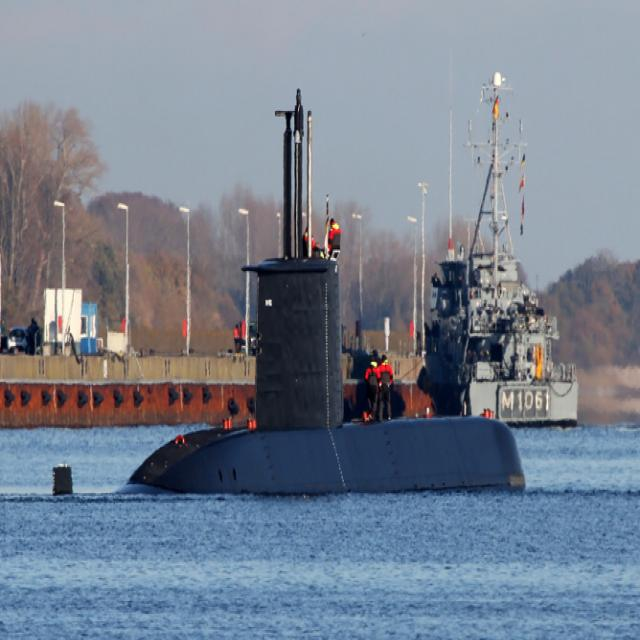submarine: (53, 93, 531, 500)
